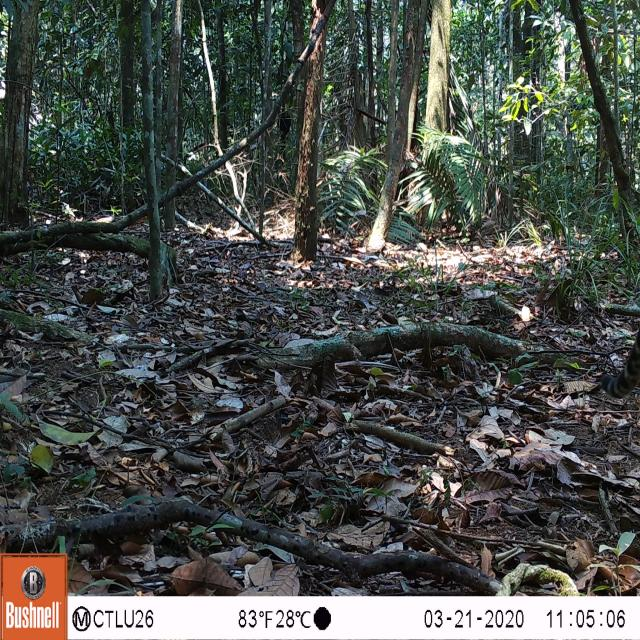Ocelote: (604, 293, 640, 419)
